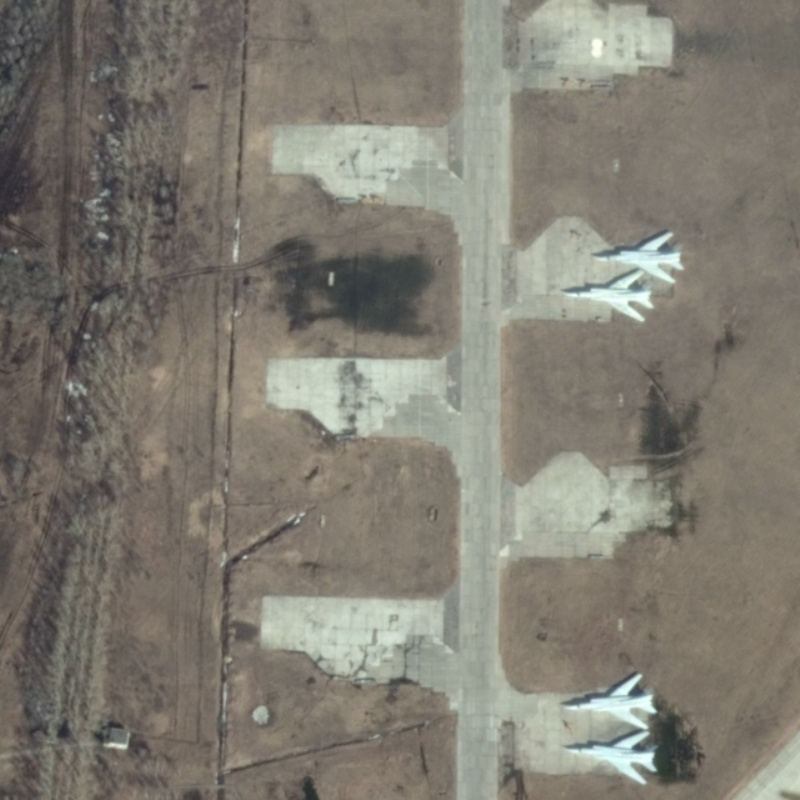A12: (563, 728, 660, 787), (564, 671, 658, 731), (591, 229, 686, 286), (562, 267, 655, 325)
